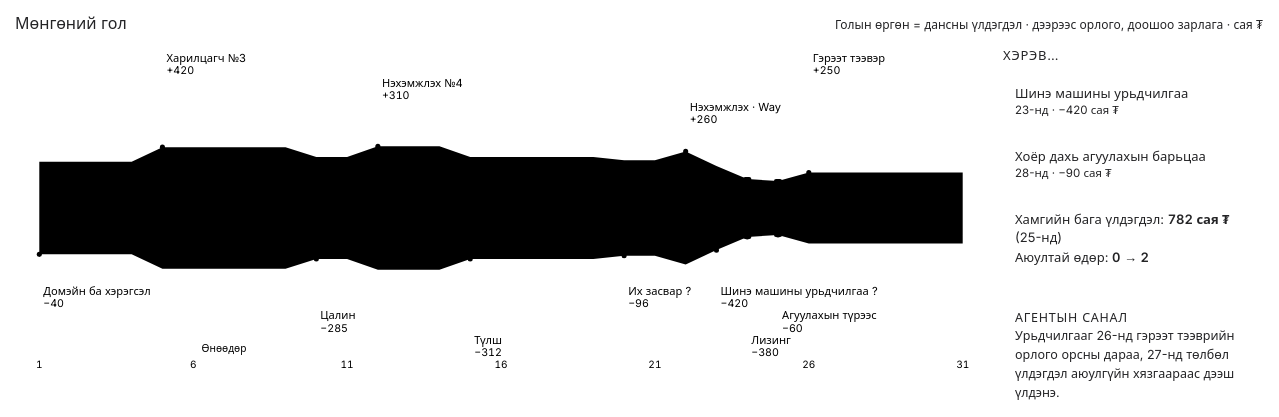
CashRiver («Мөнгөний гол») › «Хэрэв…»: switching the planned payment off puts the river back above the floor
The width and height of the screenshot is (1279, 417).
Click the button "Шинэ машины урьдчилгаа 23-нд · −420 сая ₮" at (1133, 100), box [1003,74,1263,127]
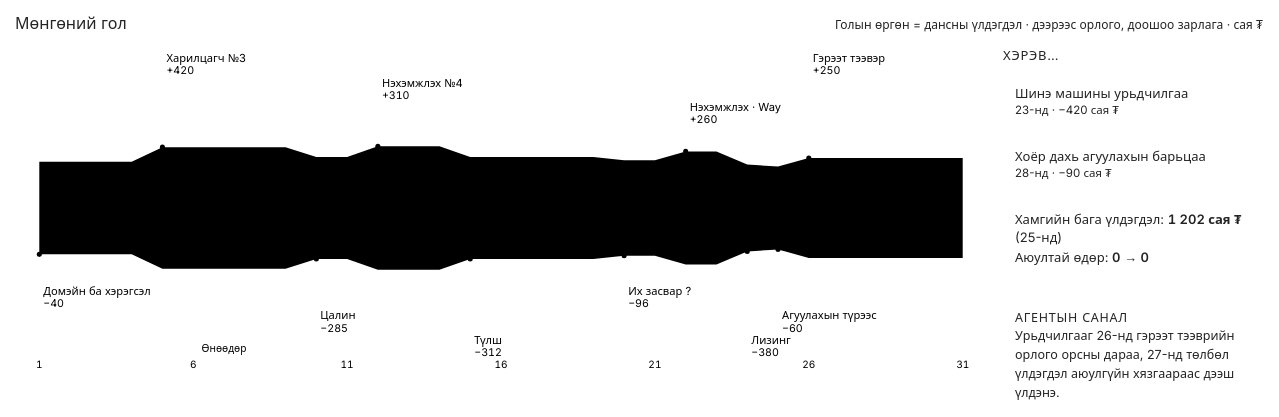
Now the text "Аюултай өдөр: 0 → 0" is shown, box [1015,249,1149,265]
